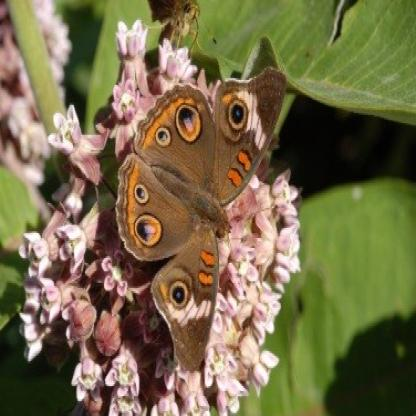Common Buckeye: (105, 43, 287, 388)
